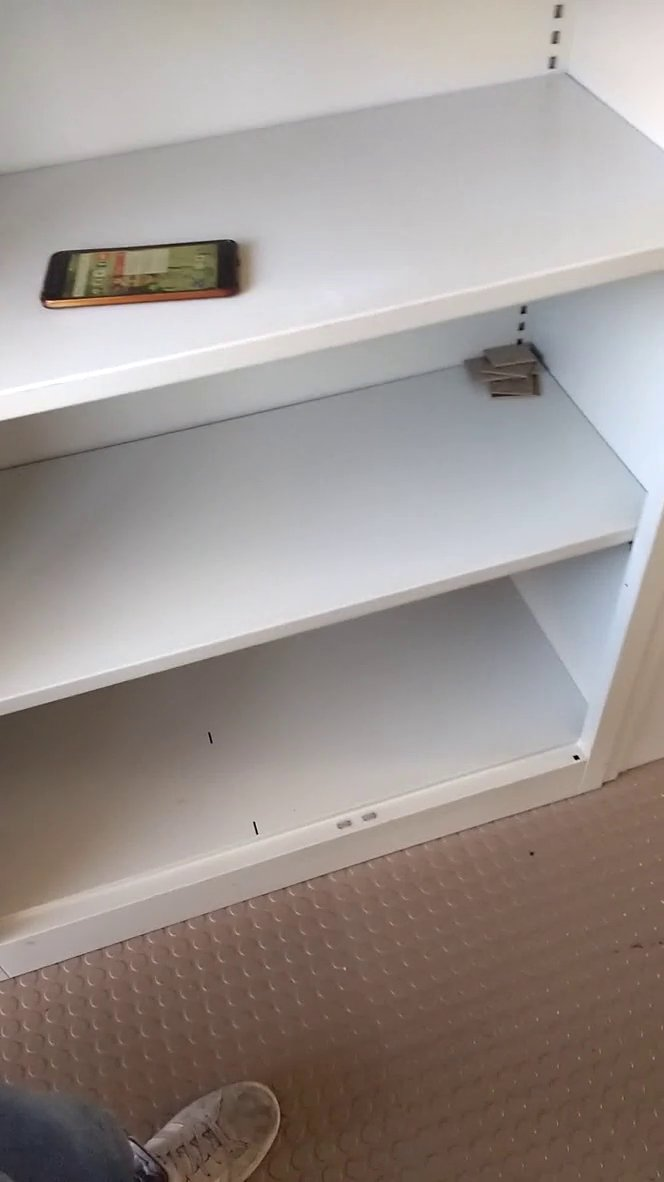phone: (35, 223, 251, 323)
